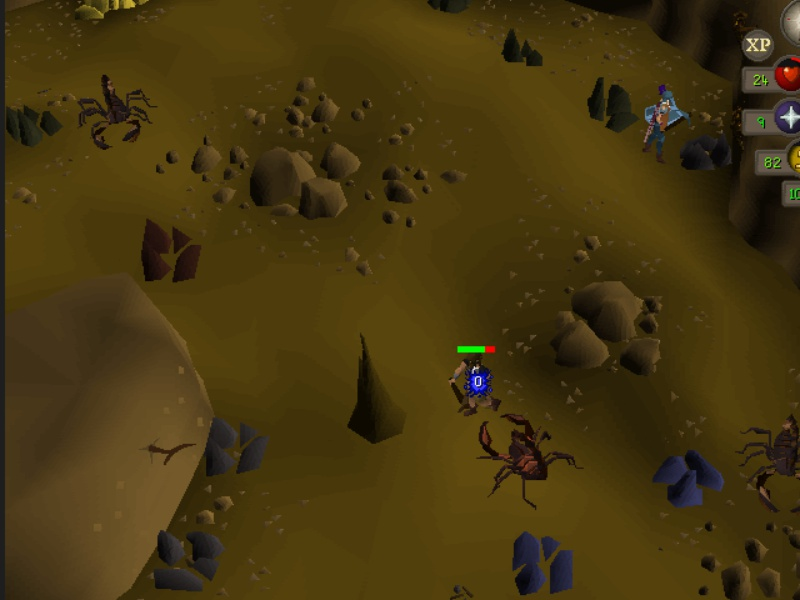coal: (584, 74, 641, 137), (4, 101, 67, 151), (498, 27, 545, 71)
gold: (72, 1, 156, 23)
iron: (137, 216, 208, 287)
mithril: (650, 446, 731, 511), (507, 528, 577, 600)
